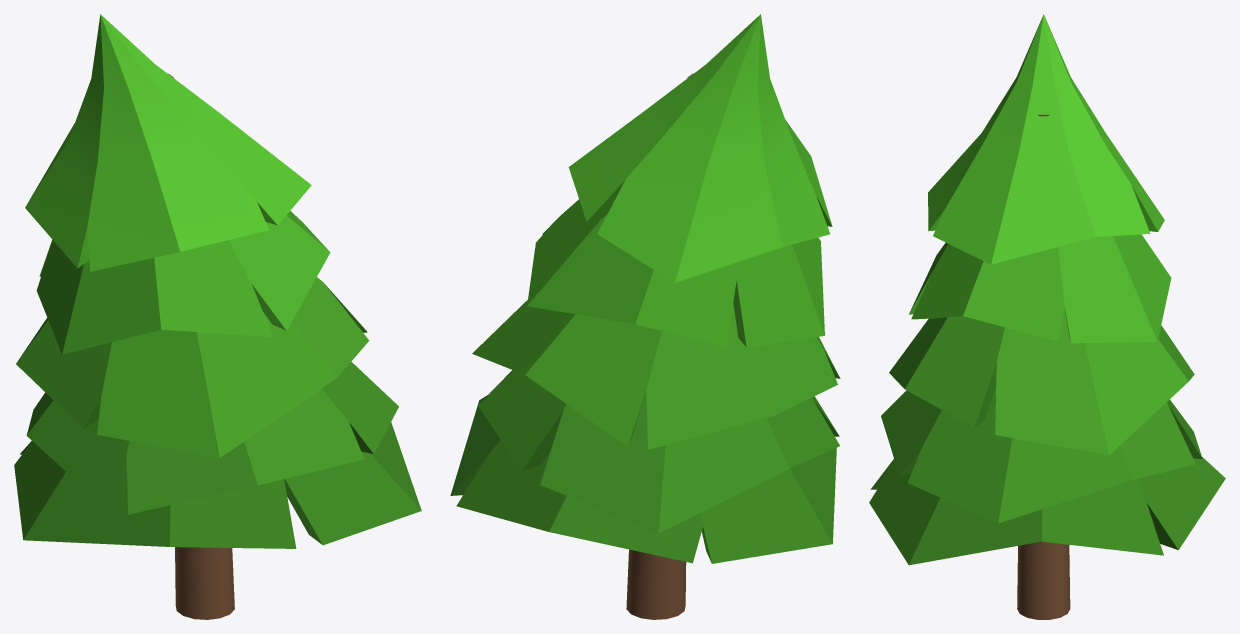
Rendered from Spruce_Green_Thick_2.fbx.
The picture shows the model from 3 angles, left to right: view 1: azimuth 30°, elevation 25°; view 2: azimuth 150°, elevation 25°; view 3: azimuth 270°, elevation 25°; orthographic projection. The views are drawn at different scales.
Parts seen in each view (by area): view 1: Cylinder.322, Cylinder.323, Cylinder.326, Cylinder.324, Cylinder.325, Cylinder.327; view 2: Cylinder.322, Cylinder.323, Cylinder.325, Cylinder.324, Cylinder.326, Cylinder.327; view 3: Cylinder.322, Cylinder.323, Cylinder.325, Cylinder.324, Cylinder.326, Cylinder.327.
Part boxes in pixels (x1,y1,x2,y2): Cylinder.322: (25, 14, 311, 271); Cylinder.323: (16, 277, 369, 457); Cylinder.326: (14, 422, 421, 548); Cylinder.324: (36, 211, 330, 354); Cylinder.325: (26, 361, 398, 514); Cylinder.327: (168, 73, 234, 619); Cylinder.322: (568, 14, 832, 282); Cylinder.323: (472, 300, 840, 449); Cylinder.325: (478, 370, 839, 533); Cylinder.324: (527, 199, 824, 347); Cylinder.326: (450, 394, 836, 563); Cylinder.327: (626, 73, 693, 619); Cylinder.322: (928, 14, 1164, 264); Cylinder.323: (889, 310, 1194, 455); Cylinder.325: (881, 386, 1202, 523); Cylinder.324: (909, 234, 1171, 343); Cylinder.326: (869, 457, 1225, 565); Cylinder.327: (1017, 114, 1070, 619).
Bounding box in the file's own units: 343 × 568 × 334.
